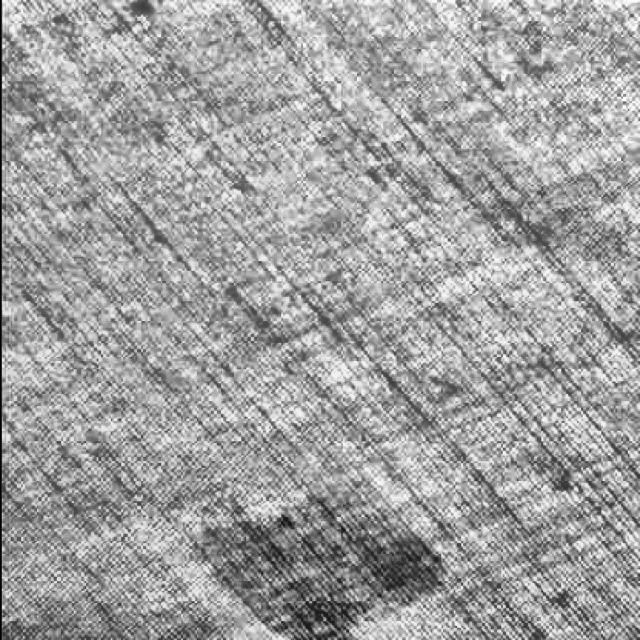oil_spot: (200, 468, 469, 640)
